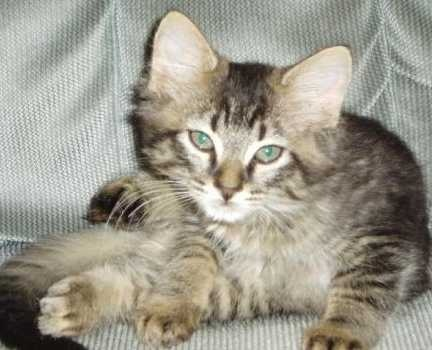Cat: (87, 11, 429, 349)
